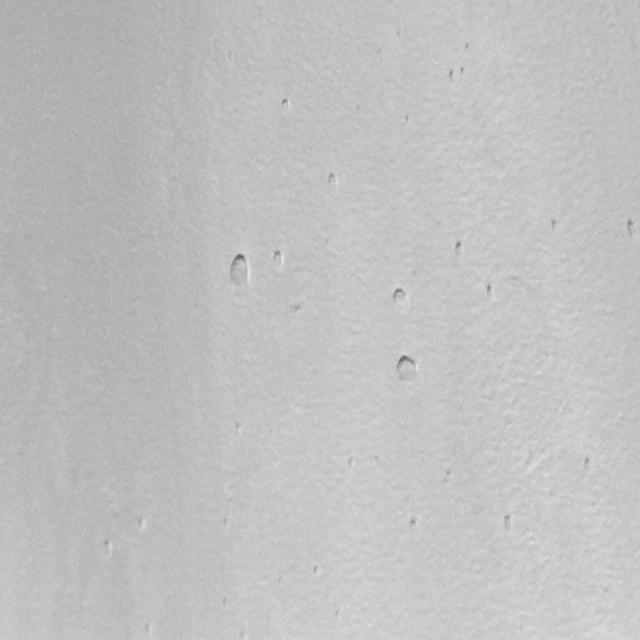pin holes: (225, 254, 255, 293), (392, 353, 422, 388), (387, 284, 410, 312), (269, 248, 289, 273), (496, 513, 516, 537), (449, 238, 467, 262), (579, 454, 598, 476), (324, 170, 342, 192), (99, 538, 115, 559), (407, 515, 423, 535), (444, 65, 460, 84), (134, 514, 150, 533), (625, 218, 638, 240), (290, 299, 304, 319), (278, 96, 293, 114), (483, 284, 496, 303), (310, 564, 324, 581), (141, 621, 155, 638), (548, 218, 560, 234), (234, 422, 244, 438), (237, 628, 250, 640)
